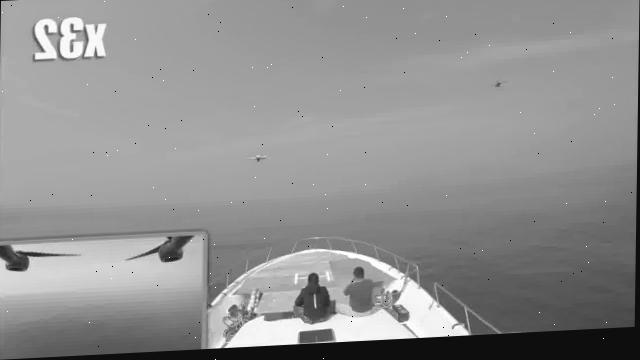drone: (247, 150, 267, 169), (488, 80, 509, 95)
